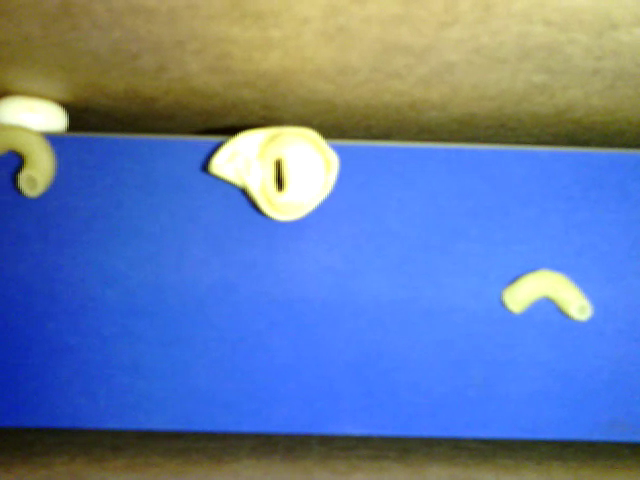elbow: (500, 267, 594, 321), (1, 124, 57, 198)
tortellini: (206, 124, 341, 222)
